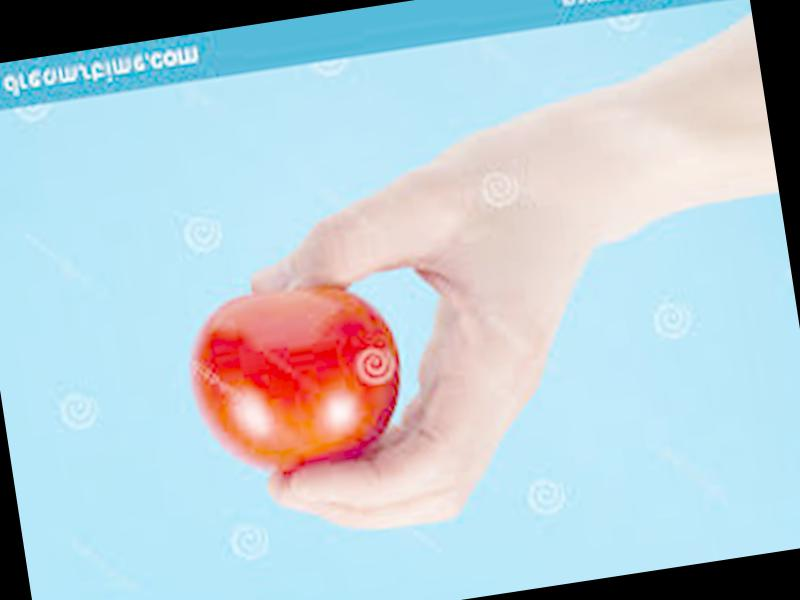Tomato: (180, 274, 412, 488)
